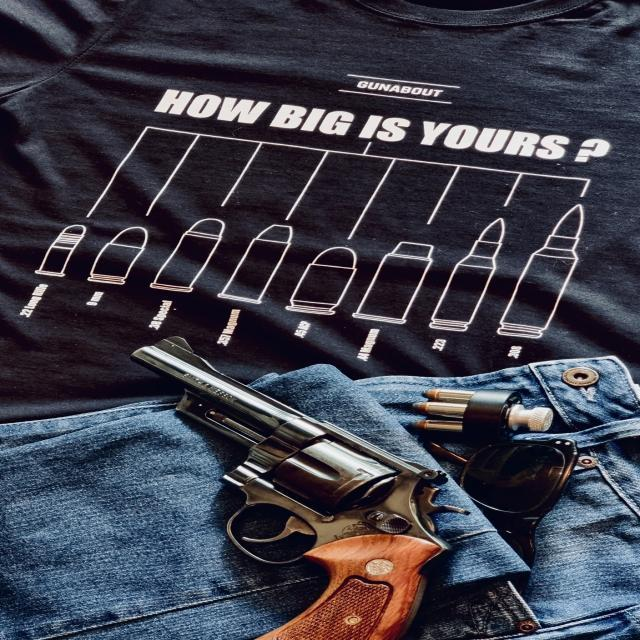revolver: (68, 327, 634, 640)
